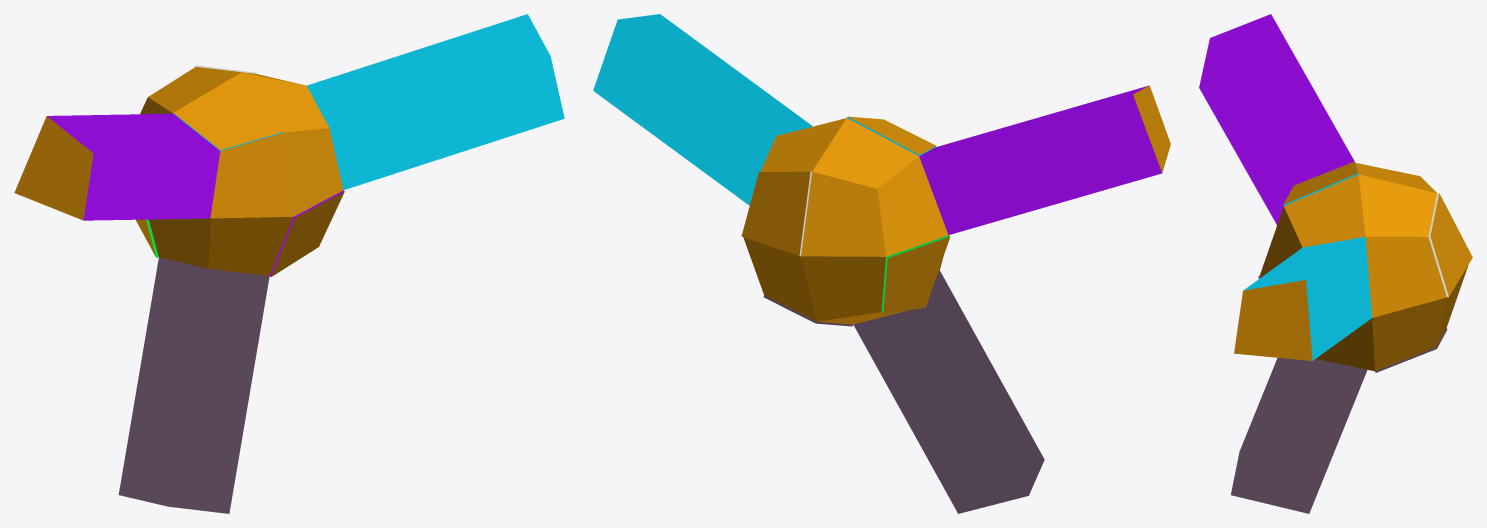
Rendered from NPC_1.fbx.
3 views of the same model, side by side, from view 1: azimuth 30°, elevation 25°; view 2: azimuth 150°, elevation 25°; view 3: azimuth 270°, elevation 25° (orthographic). The views are drawn at different scales.
Visible parts, largest first — view 1: Cube.003; view 2: Cube.003; view 3: Cube.003.
Part boxes in pixels (x1=…): Cube.003: x1=14, y1=14, x2=564, y2=513; Cube.003: x1=593, y1=14, x2=1170, y2=513; Cube.003: x1=1199, y1=14, x2=1472, y2=513.
Size of the model in its own units: 121 by 93.13 by 54.12.
